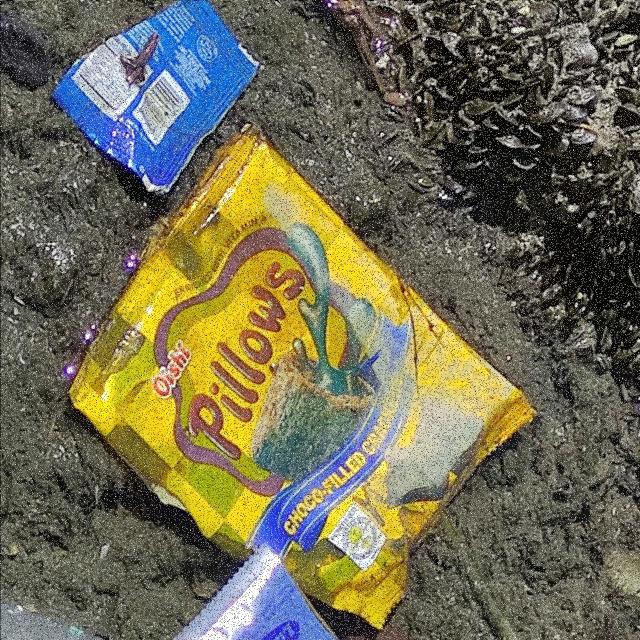plastic_waste: (69, 127, 545, 640), (55, 4, 264, 200)
